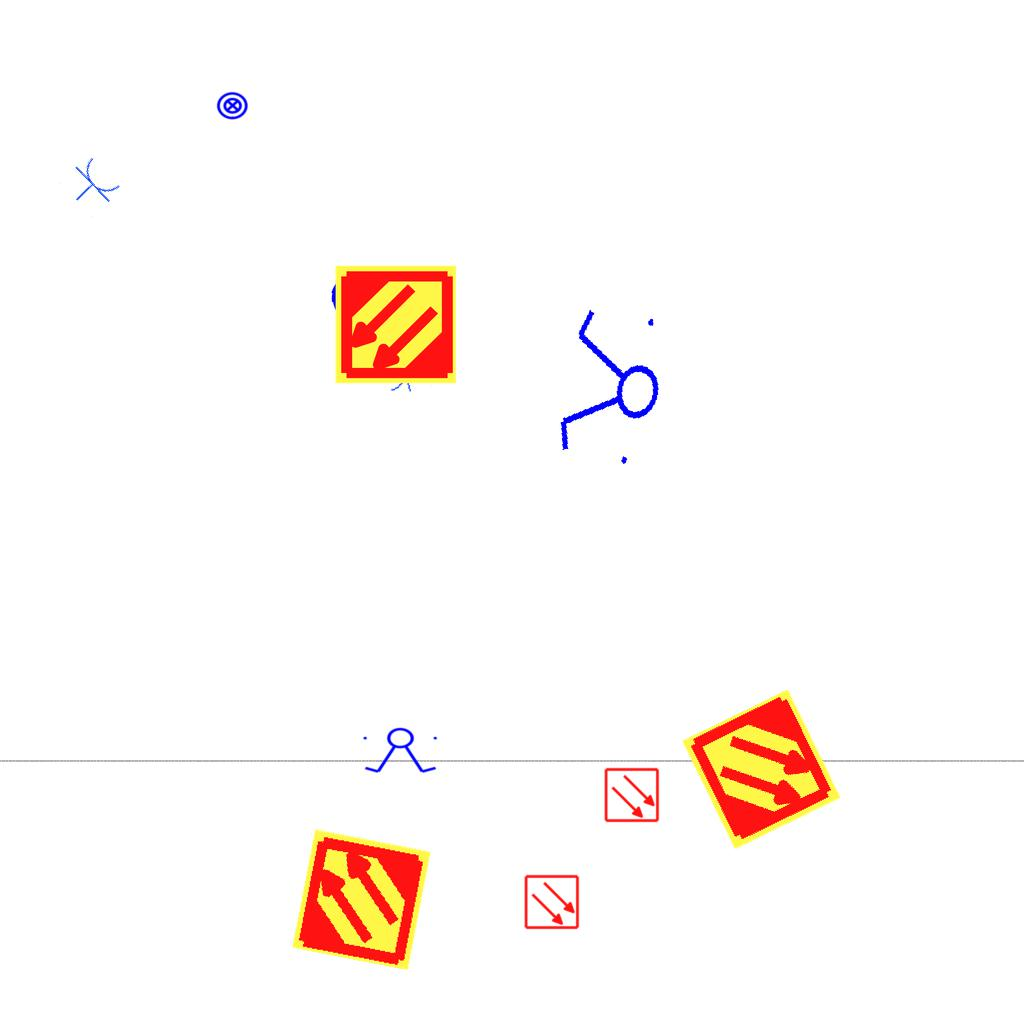ASR_Ansaugrauchmelder: (677, 685, 846, 854), (288, 826, 435, 973), (333, 262, 458, 387)
RMO_Rauchmelder_optischer: (524, 874, 580, 930), (604, 767, 660, 823)
Schukosteckdose_einfach: (59, 152, 125, 219), (379, 338, 433, 397)
Serienschalter: (548, 296, 676, 480), (359, 727, 443, 775)
Taster_beleuchtet: (325, 259, 399, 333), (216, 89, 249, 122)
